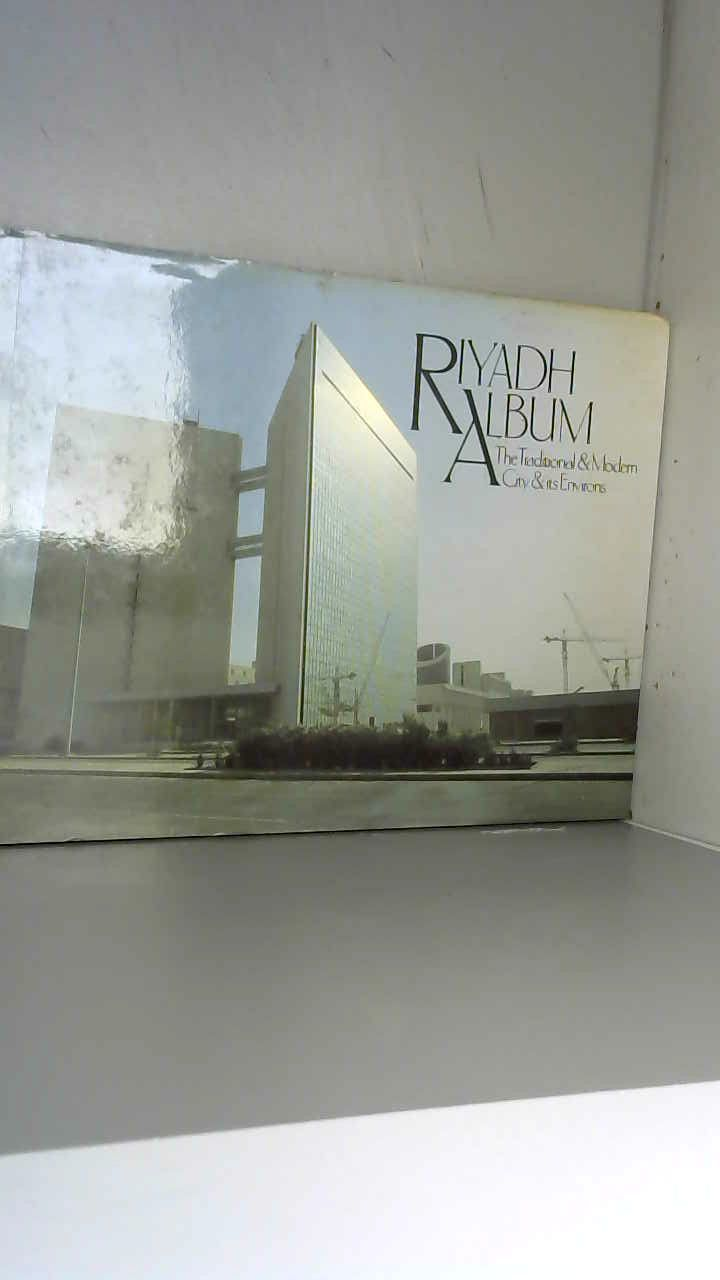book: (0, 212, 686, 888)
